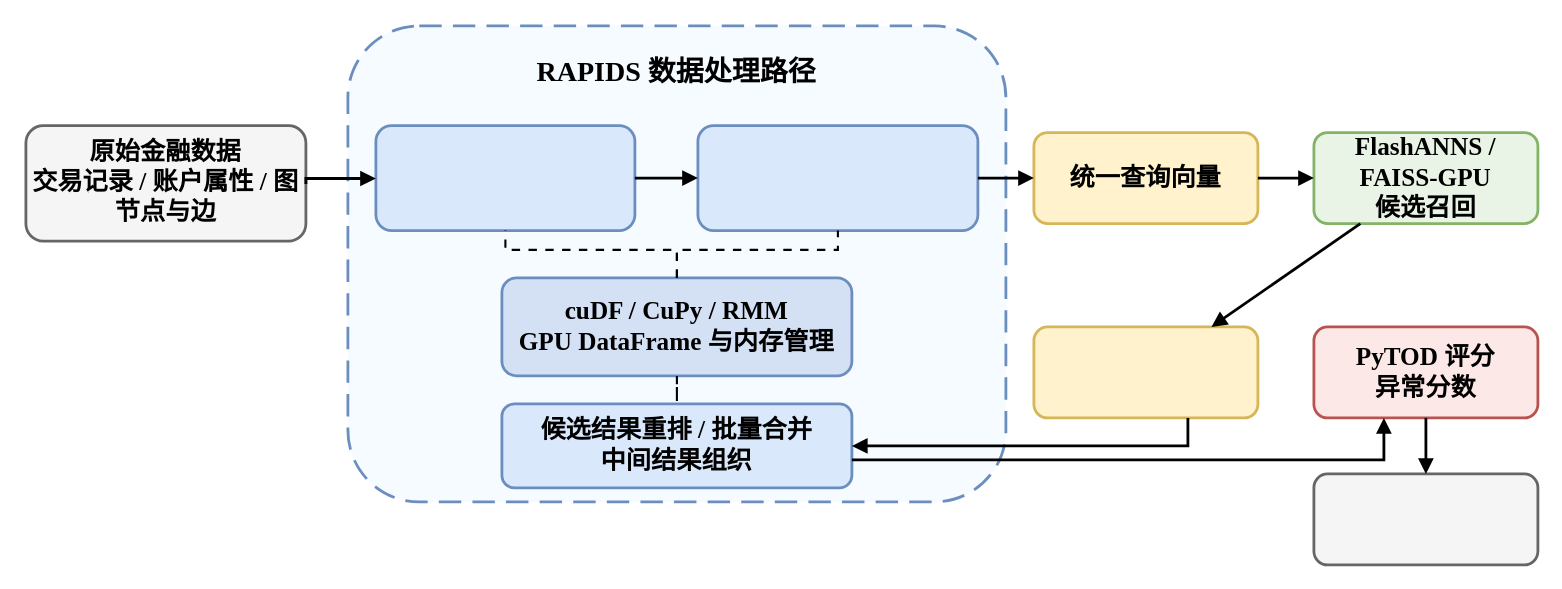
This 1562x589 diagram has some shape labels left out. The shapes that lost their labels are listed below. From the top down, each one's centre as x and y in pixels, then its label:
At (505,177): "字段清洗 / 类型转换 缺失值处理 / 单位统一".
At (837,177): "特征编码 / 归一化 / 拼接 形成统一查询向量".
At (1145,372): "候选结果".
At (1425,519): "风险排序 / 日志输出".
